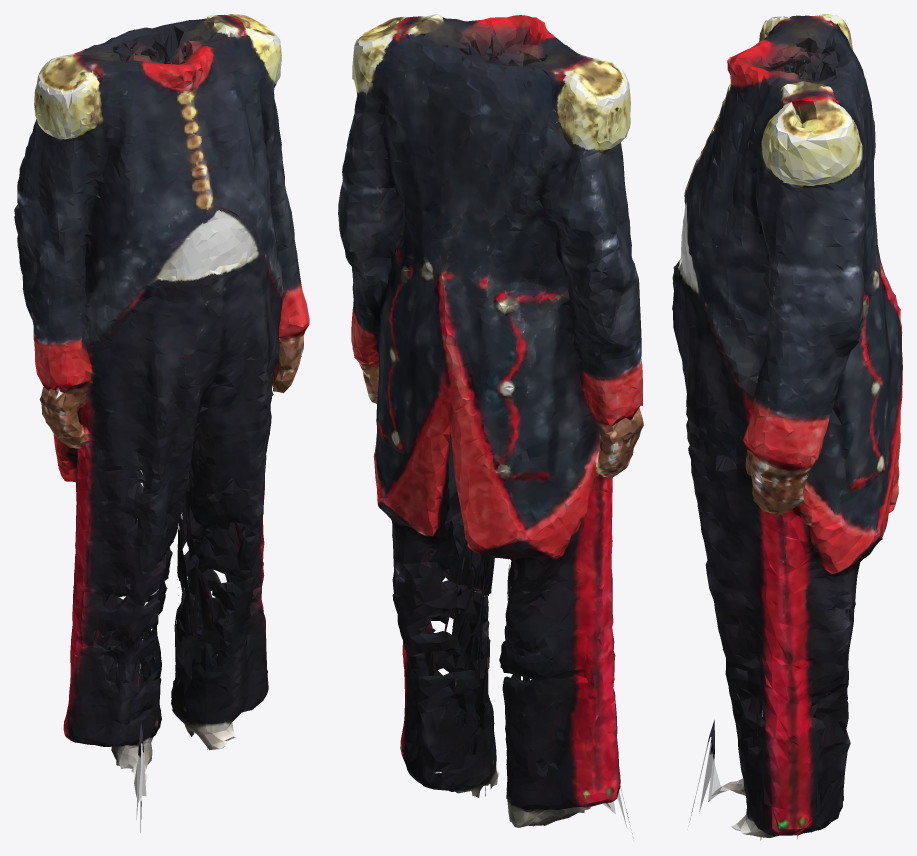
3 renders of one model, left to right at view 1: azimuth 30°, elevation 25°; view 2: azimuth 150°, elevation 25°; view 3: azimuth 270°, elevation 25°, orthographic. The views are drawn at different scales.
Parts seen in each view (by area): view 1: geometry_0; view 2: geometry_0; view 3: geometry_0.
Part boxes in pixels (x1,y1,x2,y2): geometry_0: [14, 14, 309, 832]; geometry_0: [338, 14, 643, 827]; geometry_0: [672, 14, 902, 840].
Bounding box in the file's own units: 0.3645 × 1 × 0.2556.
1 material, 1 textured.
